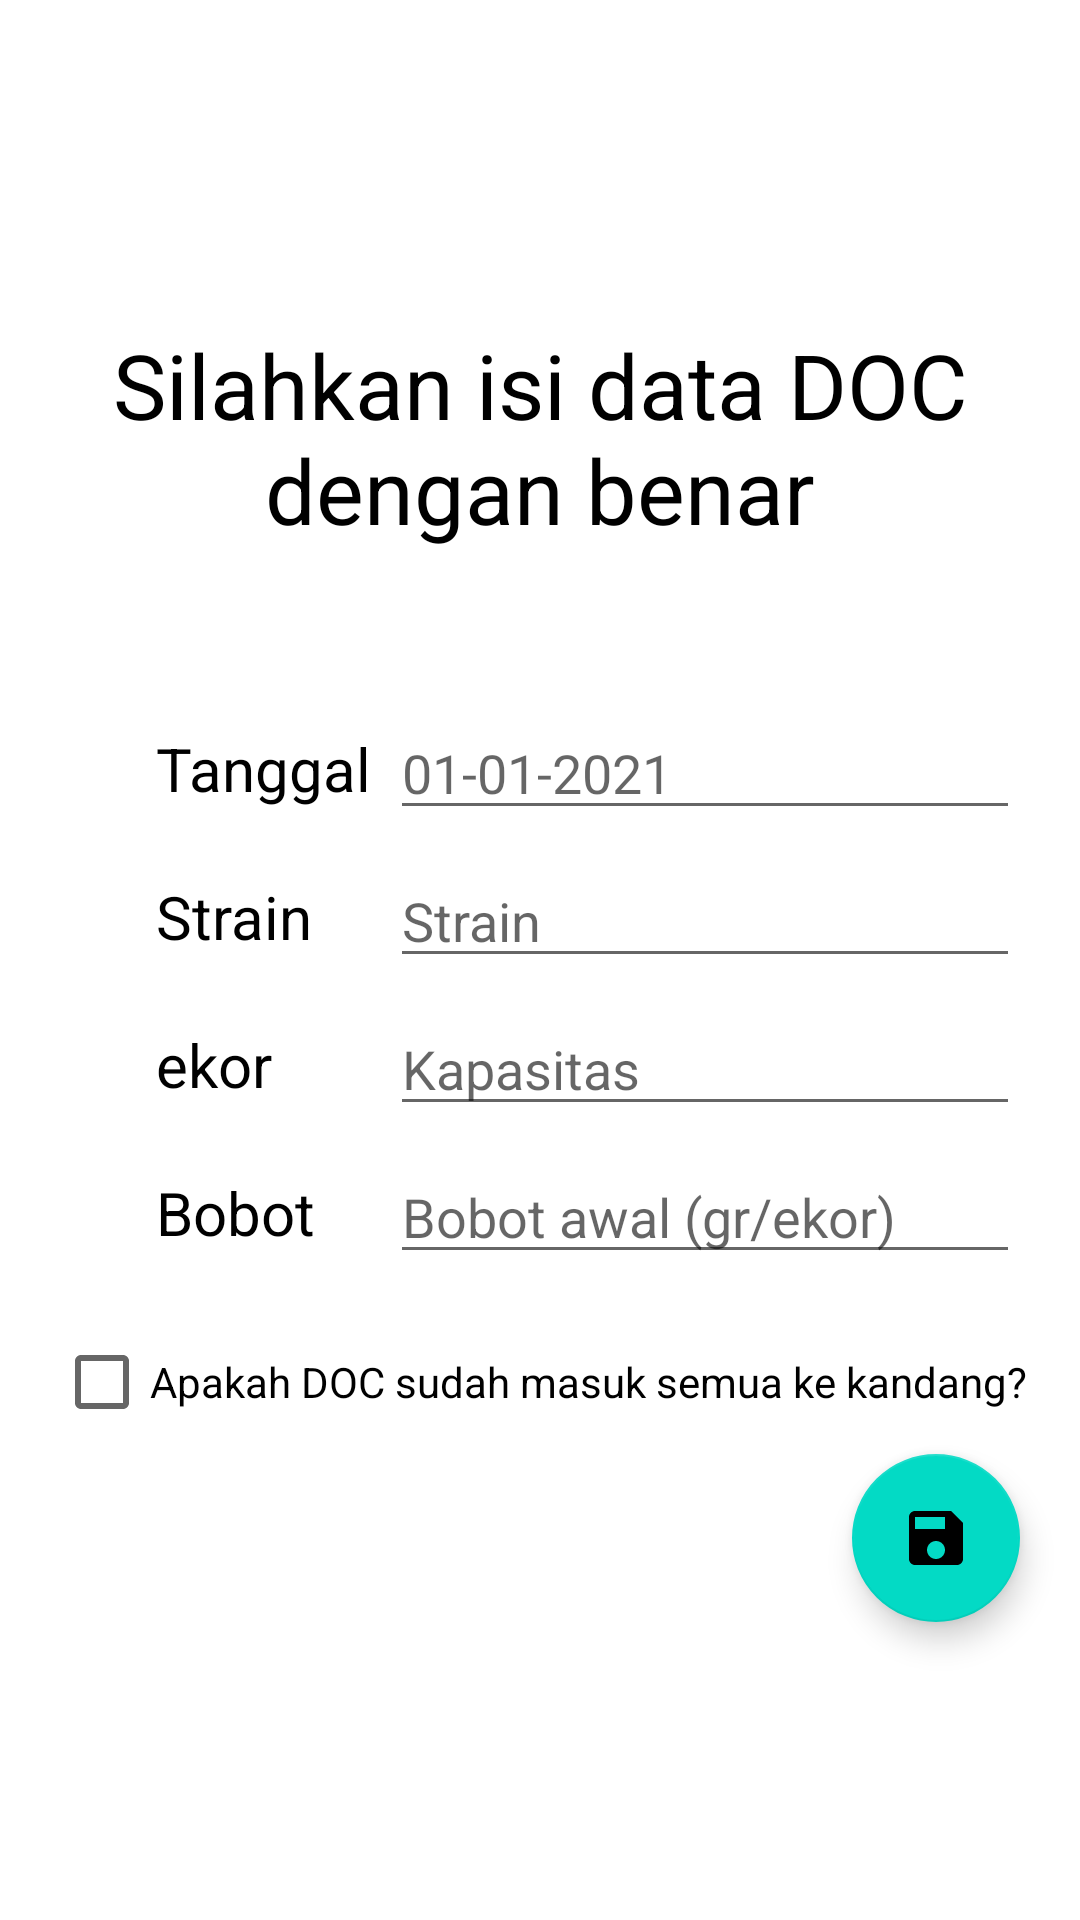

Where to tap for icons on this 1080px x 1920px app screen, as point (x, y):
save: point (936, 1538)
